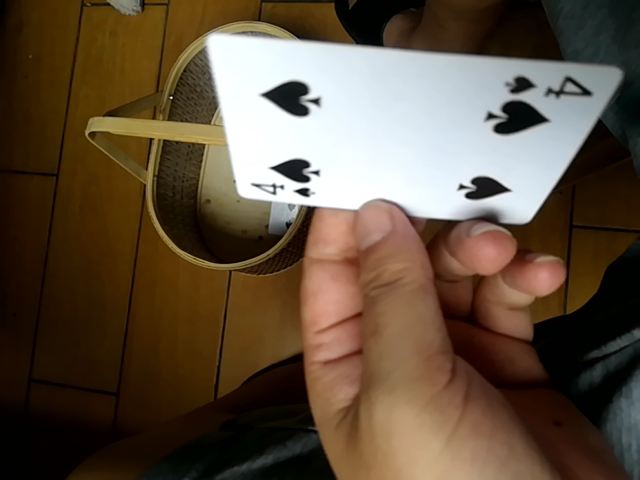ht 4: (207, 33, 628, 230)
